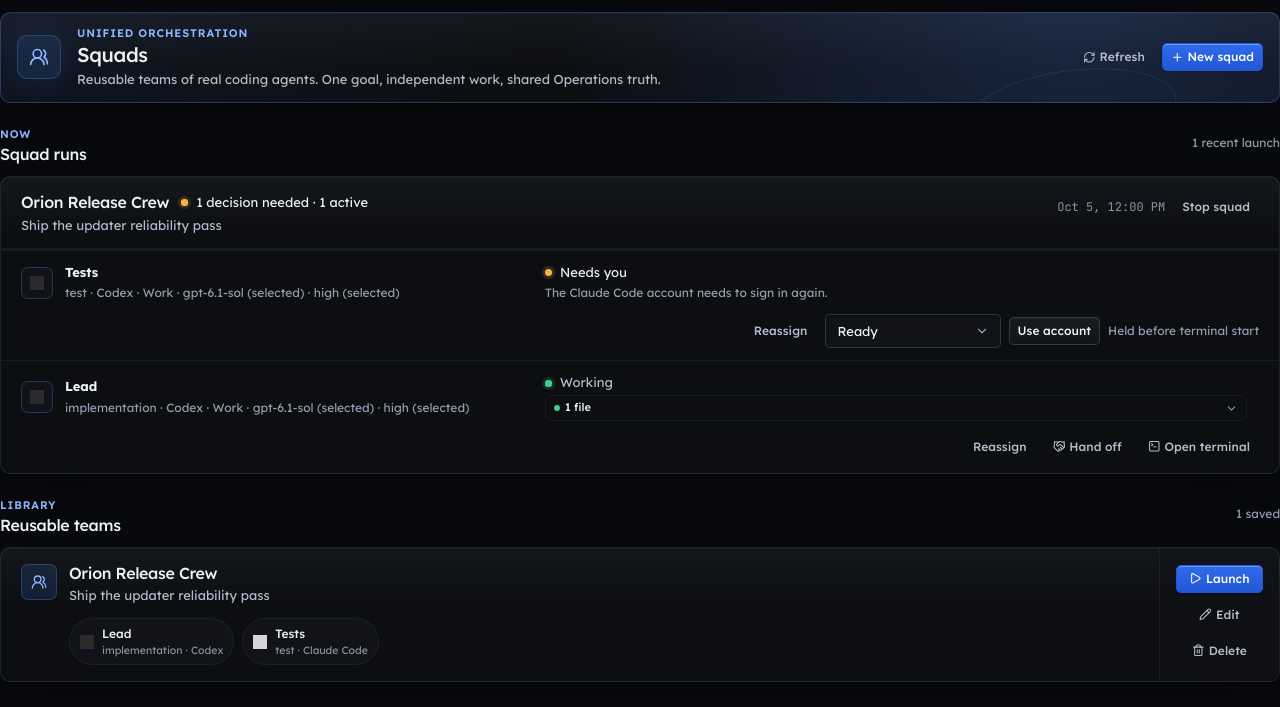
Test: SquadsPanel › prefills new members from a usable provider account without provider-specific defaults
What coordinates should you click on to do the following:
click the button "New squad"
I would click on:
 (1212, 57)
Its box is left=1162, top=43, right=1263, bottom=71.
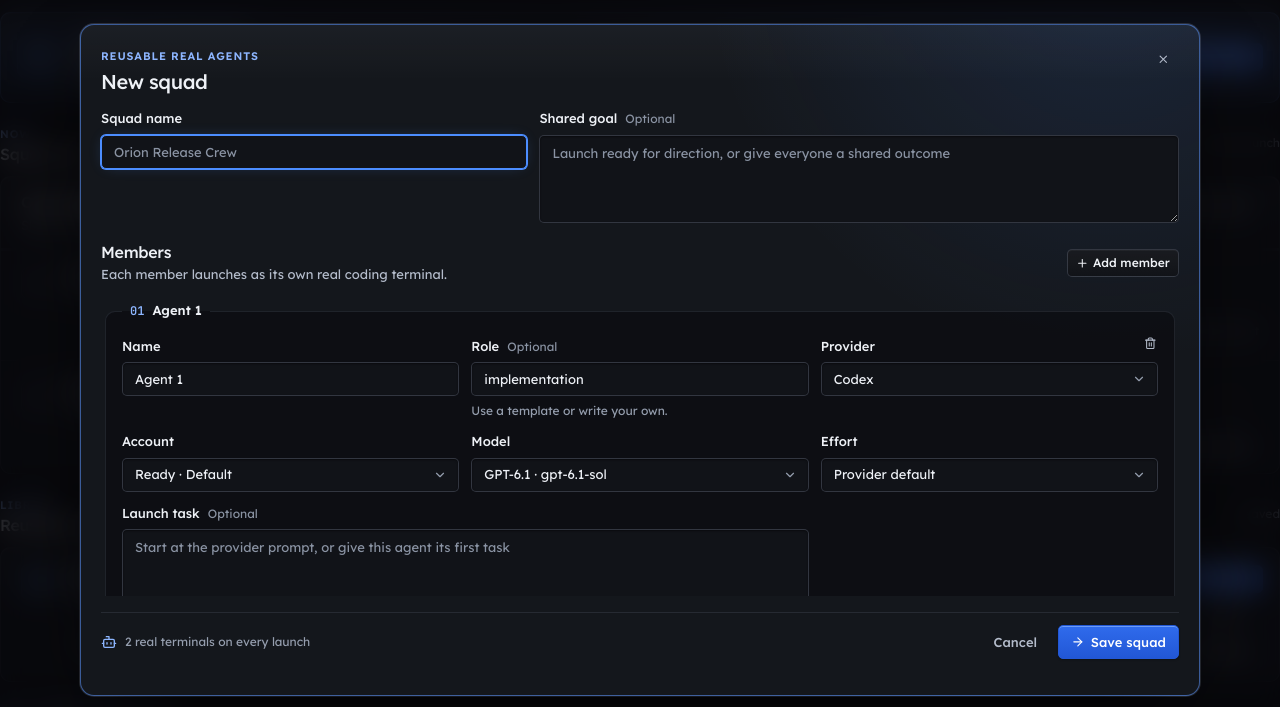
Result: the dropdown labelled "Provider" shows "Codex" at left=821, top=362, right=1158, bottom=396
